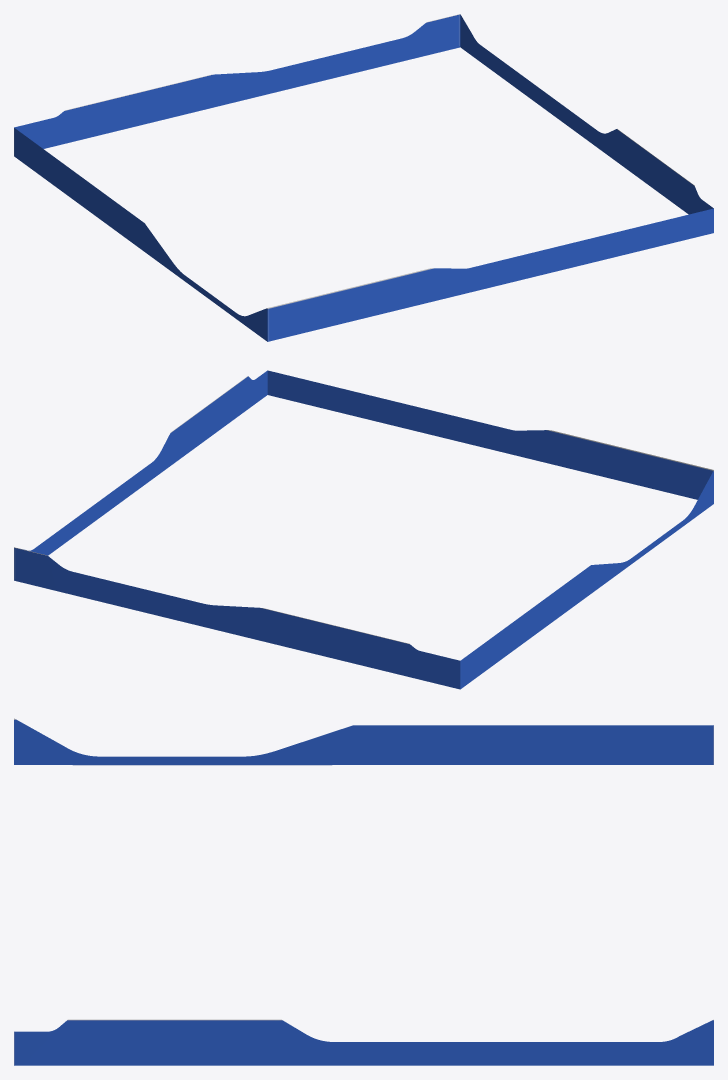
The model's file is Stadium_Wall_Hexa_Light.FBX.
3 renders of one model, top to bottom at view 1: azimuth 30°, elevation 25°; view 2: azimuth 150°, elevation 25°; view 3: azimuth 270°, elevation 25°, orthographic. The views are drawn at different scales.
Visible parts, largest first — view 1: Stadium_Wall_Hexa_Light; view 2: Stadium_Wall_Hexa_Light; view 3: Stadium_Wall_Hexa_Light.
Part boxes in pixels (x1,y1,x2,y2): Stadium_Wall_Hexa_Light: (14,14,713,341); Stadium_Wall_Hexa_Light: (14,370,713,689); Stadium_Wall_Hexa_Light: (14,718,713,1065).
Bounding box in the file's own units: 64709 × 4710 × 63686.
